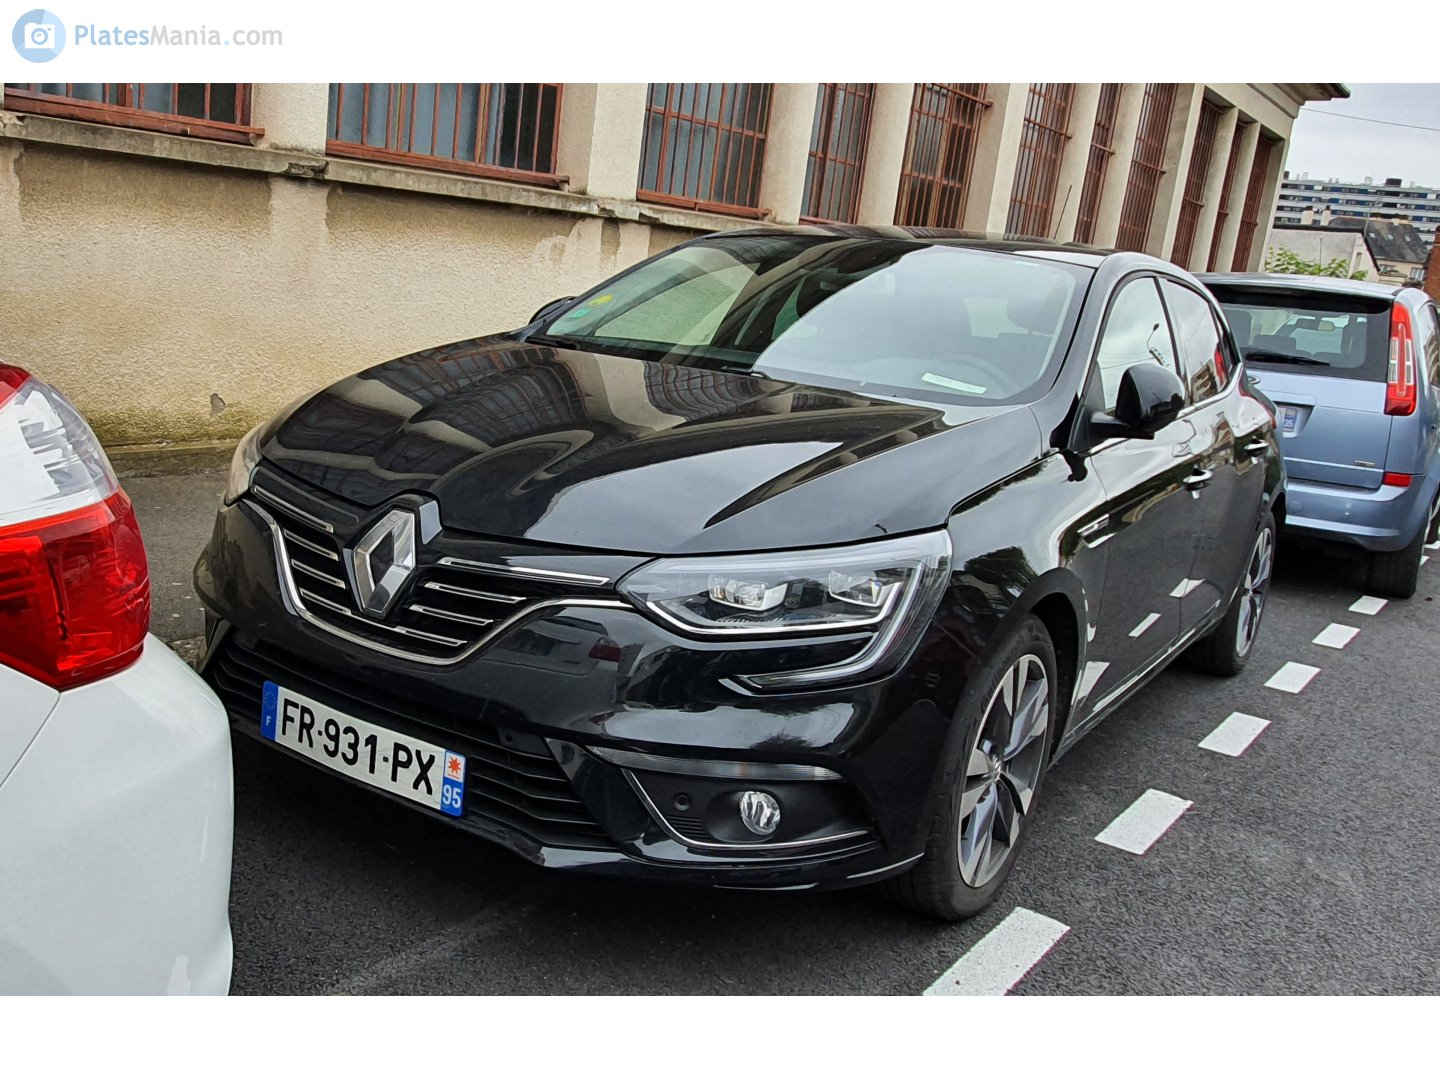licence plate: (255, 678, 469, 822)
